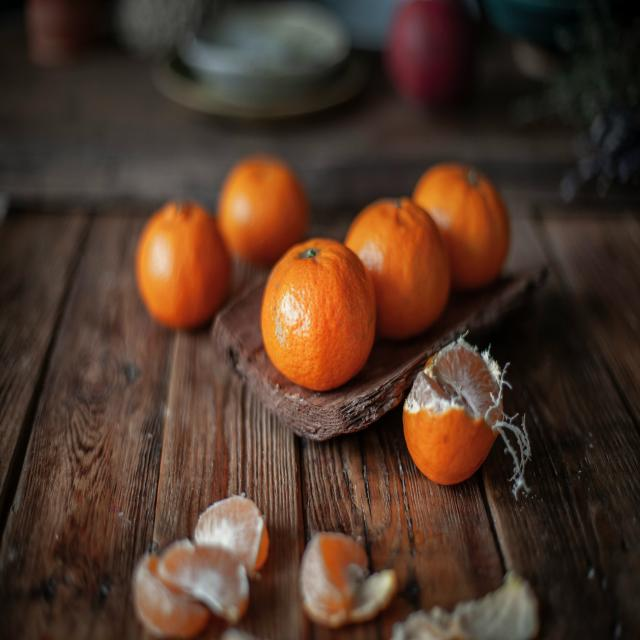tangerine: (261, 240, 378, 394), (340, 197, 452, 344), (410, 161, 511, 296), (136, 202, 233, 334), (217, 156, 311, 271)
